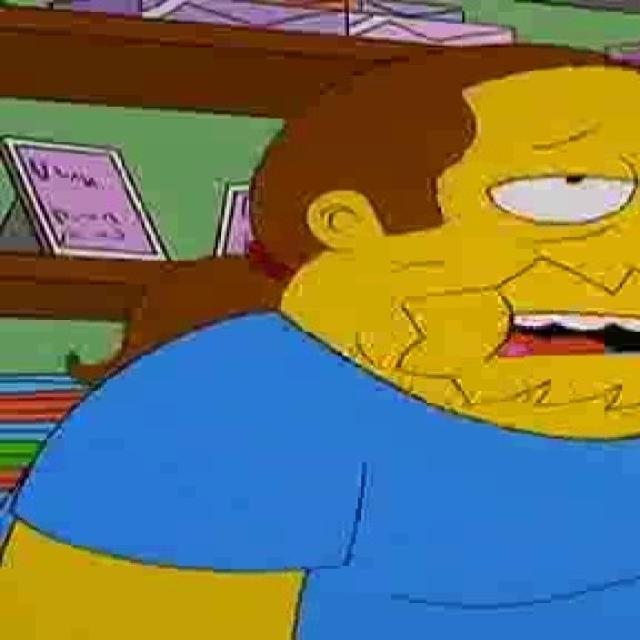Comic Book Guy: (198, 40, 640, 446)
